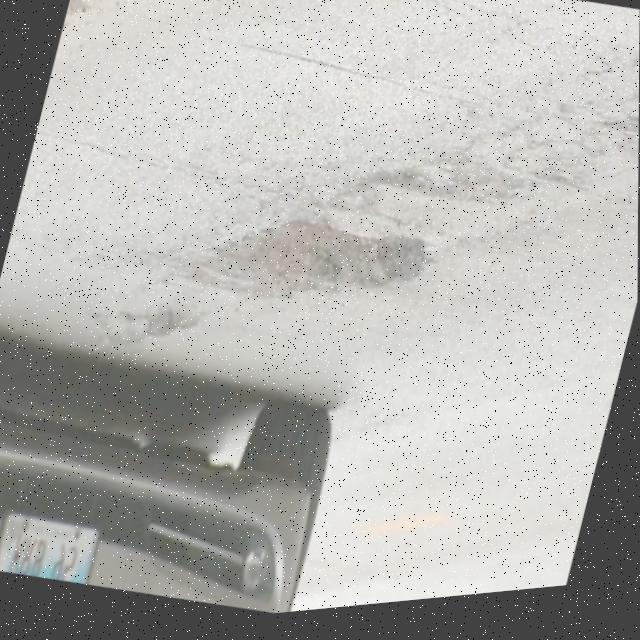pothole: (191, 176, 445, 348), (84, 284, 207, 382)
